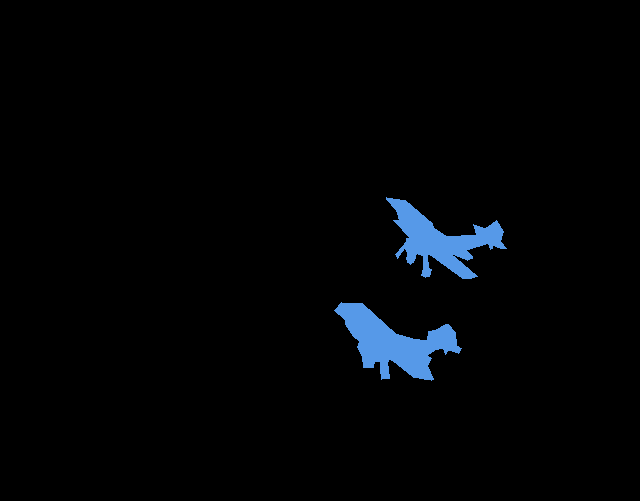Airplane: (334, 302, 461, 381), (386, 197, 506, 278)
